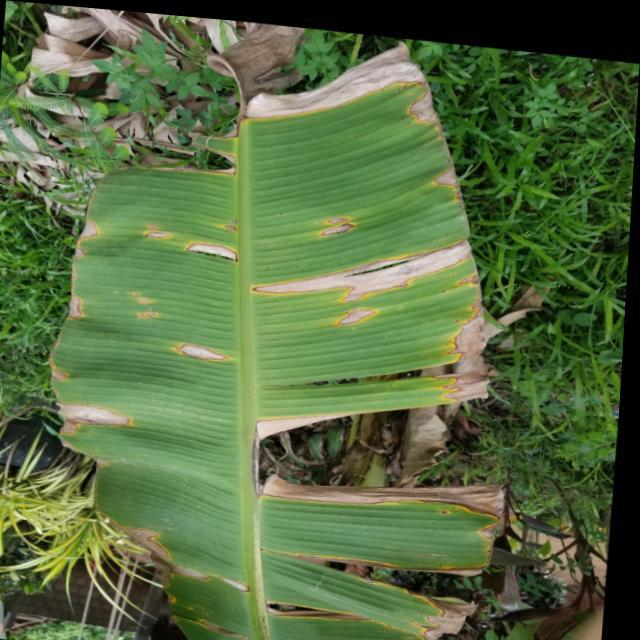Early_rust: (31, 57, 520, 640)
